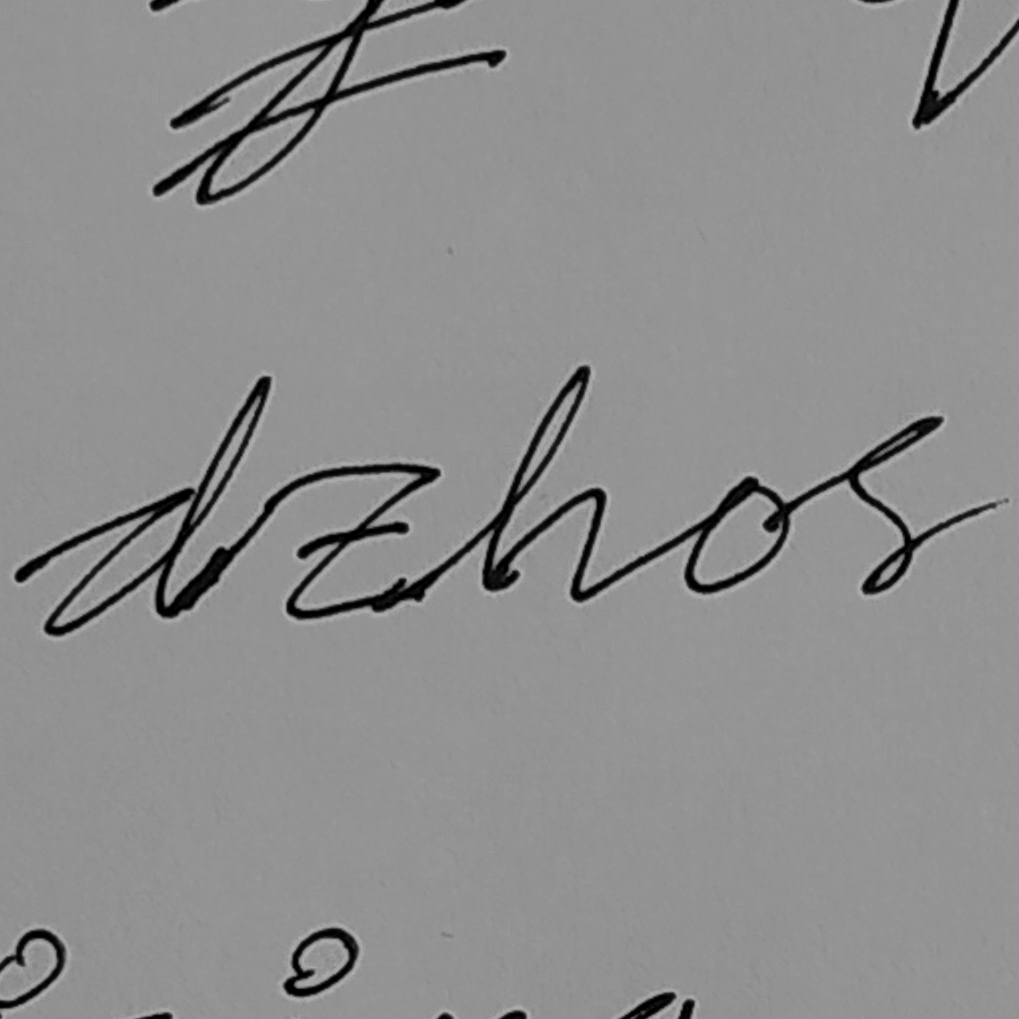d: (37, 373, 273, 640)
h: (479, 362, 610, 609)
o: (679, 472, 793, 597)
s: (844, 412, 946, 597)
z: (280, 457, 445, 623)
